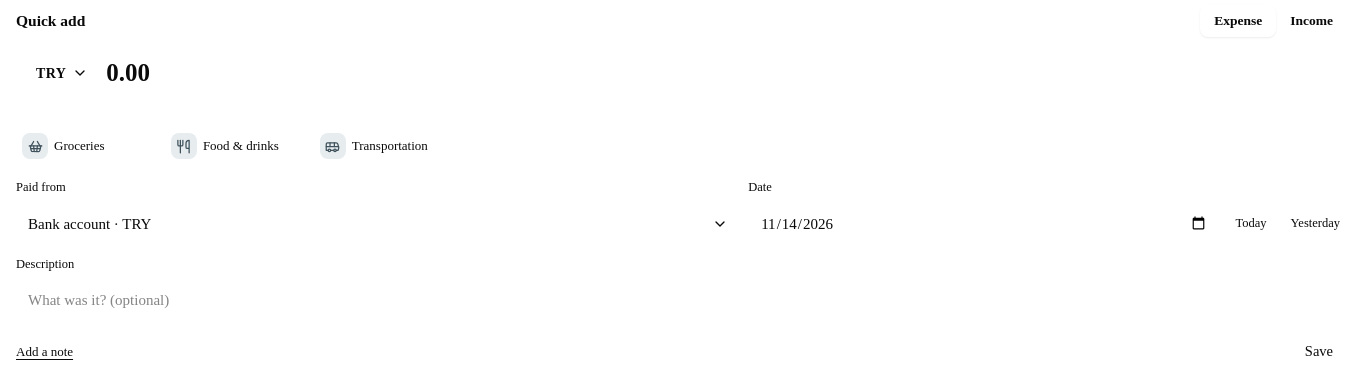
it: Quick Add saving › ignores a second press while the first is still saving
Type "9" into the field named "Amount" at (723, 73), box [106, 53, 1340, 93]
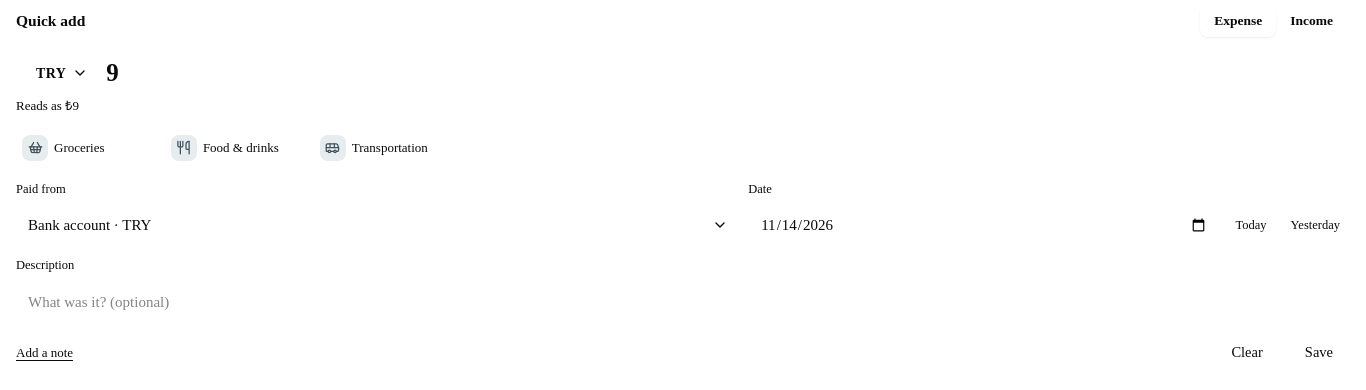
Press Enter in the field named "Amount", box [106, 53, 1340, 93]
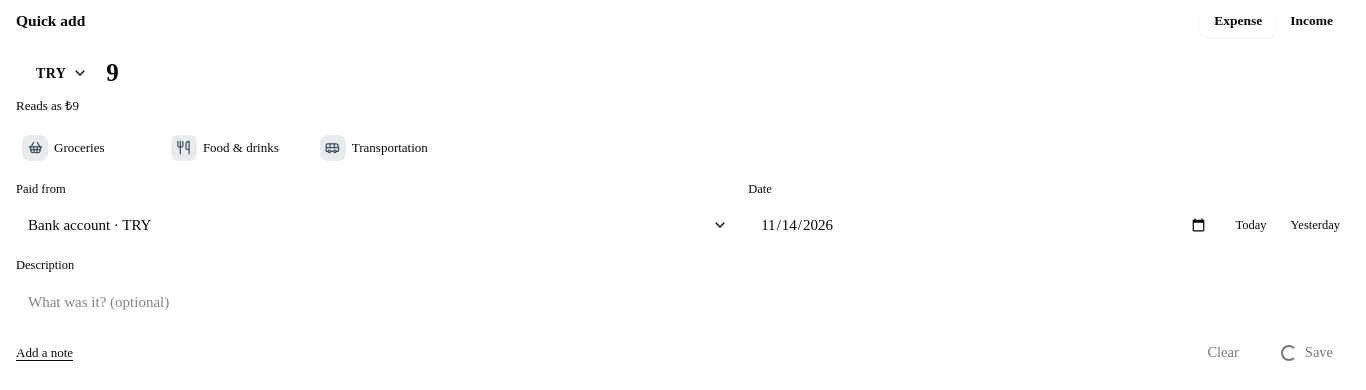
Press Enter in the field named "Amount", box [106, 53, 1340, 93]
Click the button "Save" at (1307, 353), box [1264, 333, 1350, 373]
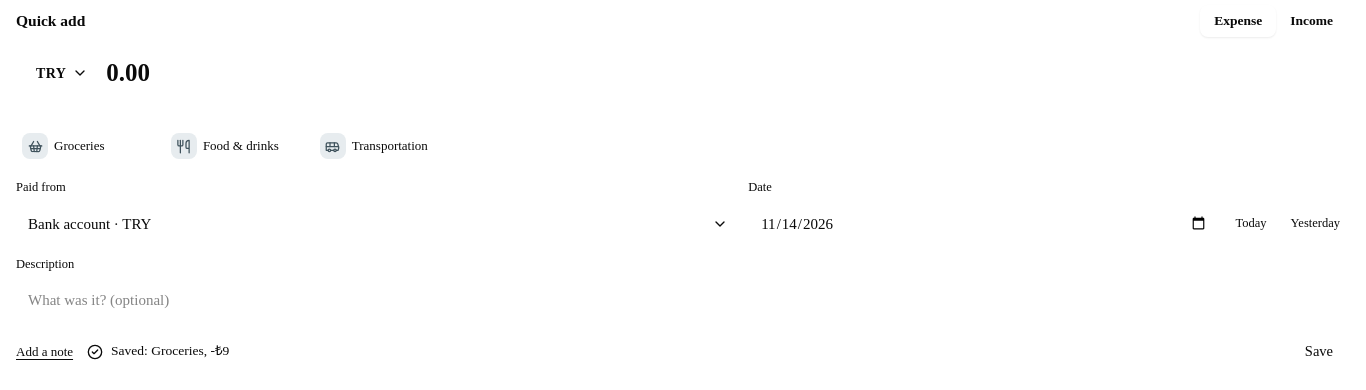
Expected: the text "Saved: Groceries, -₺9" is shown, [111, 341, 229, 362]
